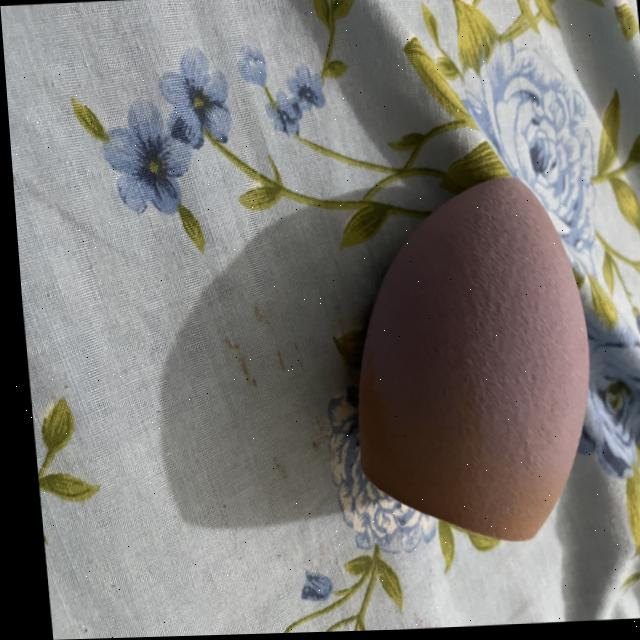beauty blender: (308, 143, 628, 571)
